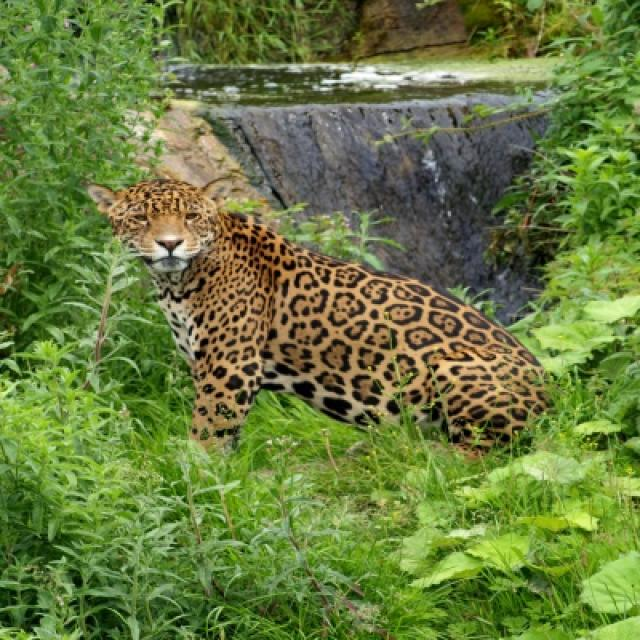Jaguar: (82, 178, 552, 462)
